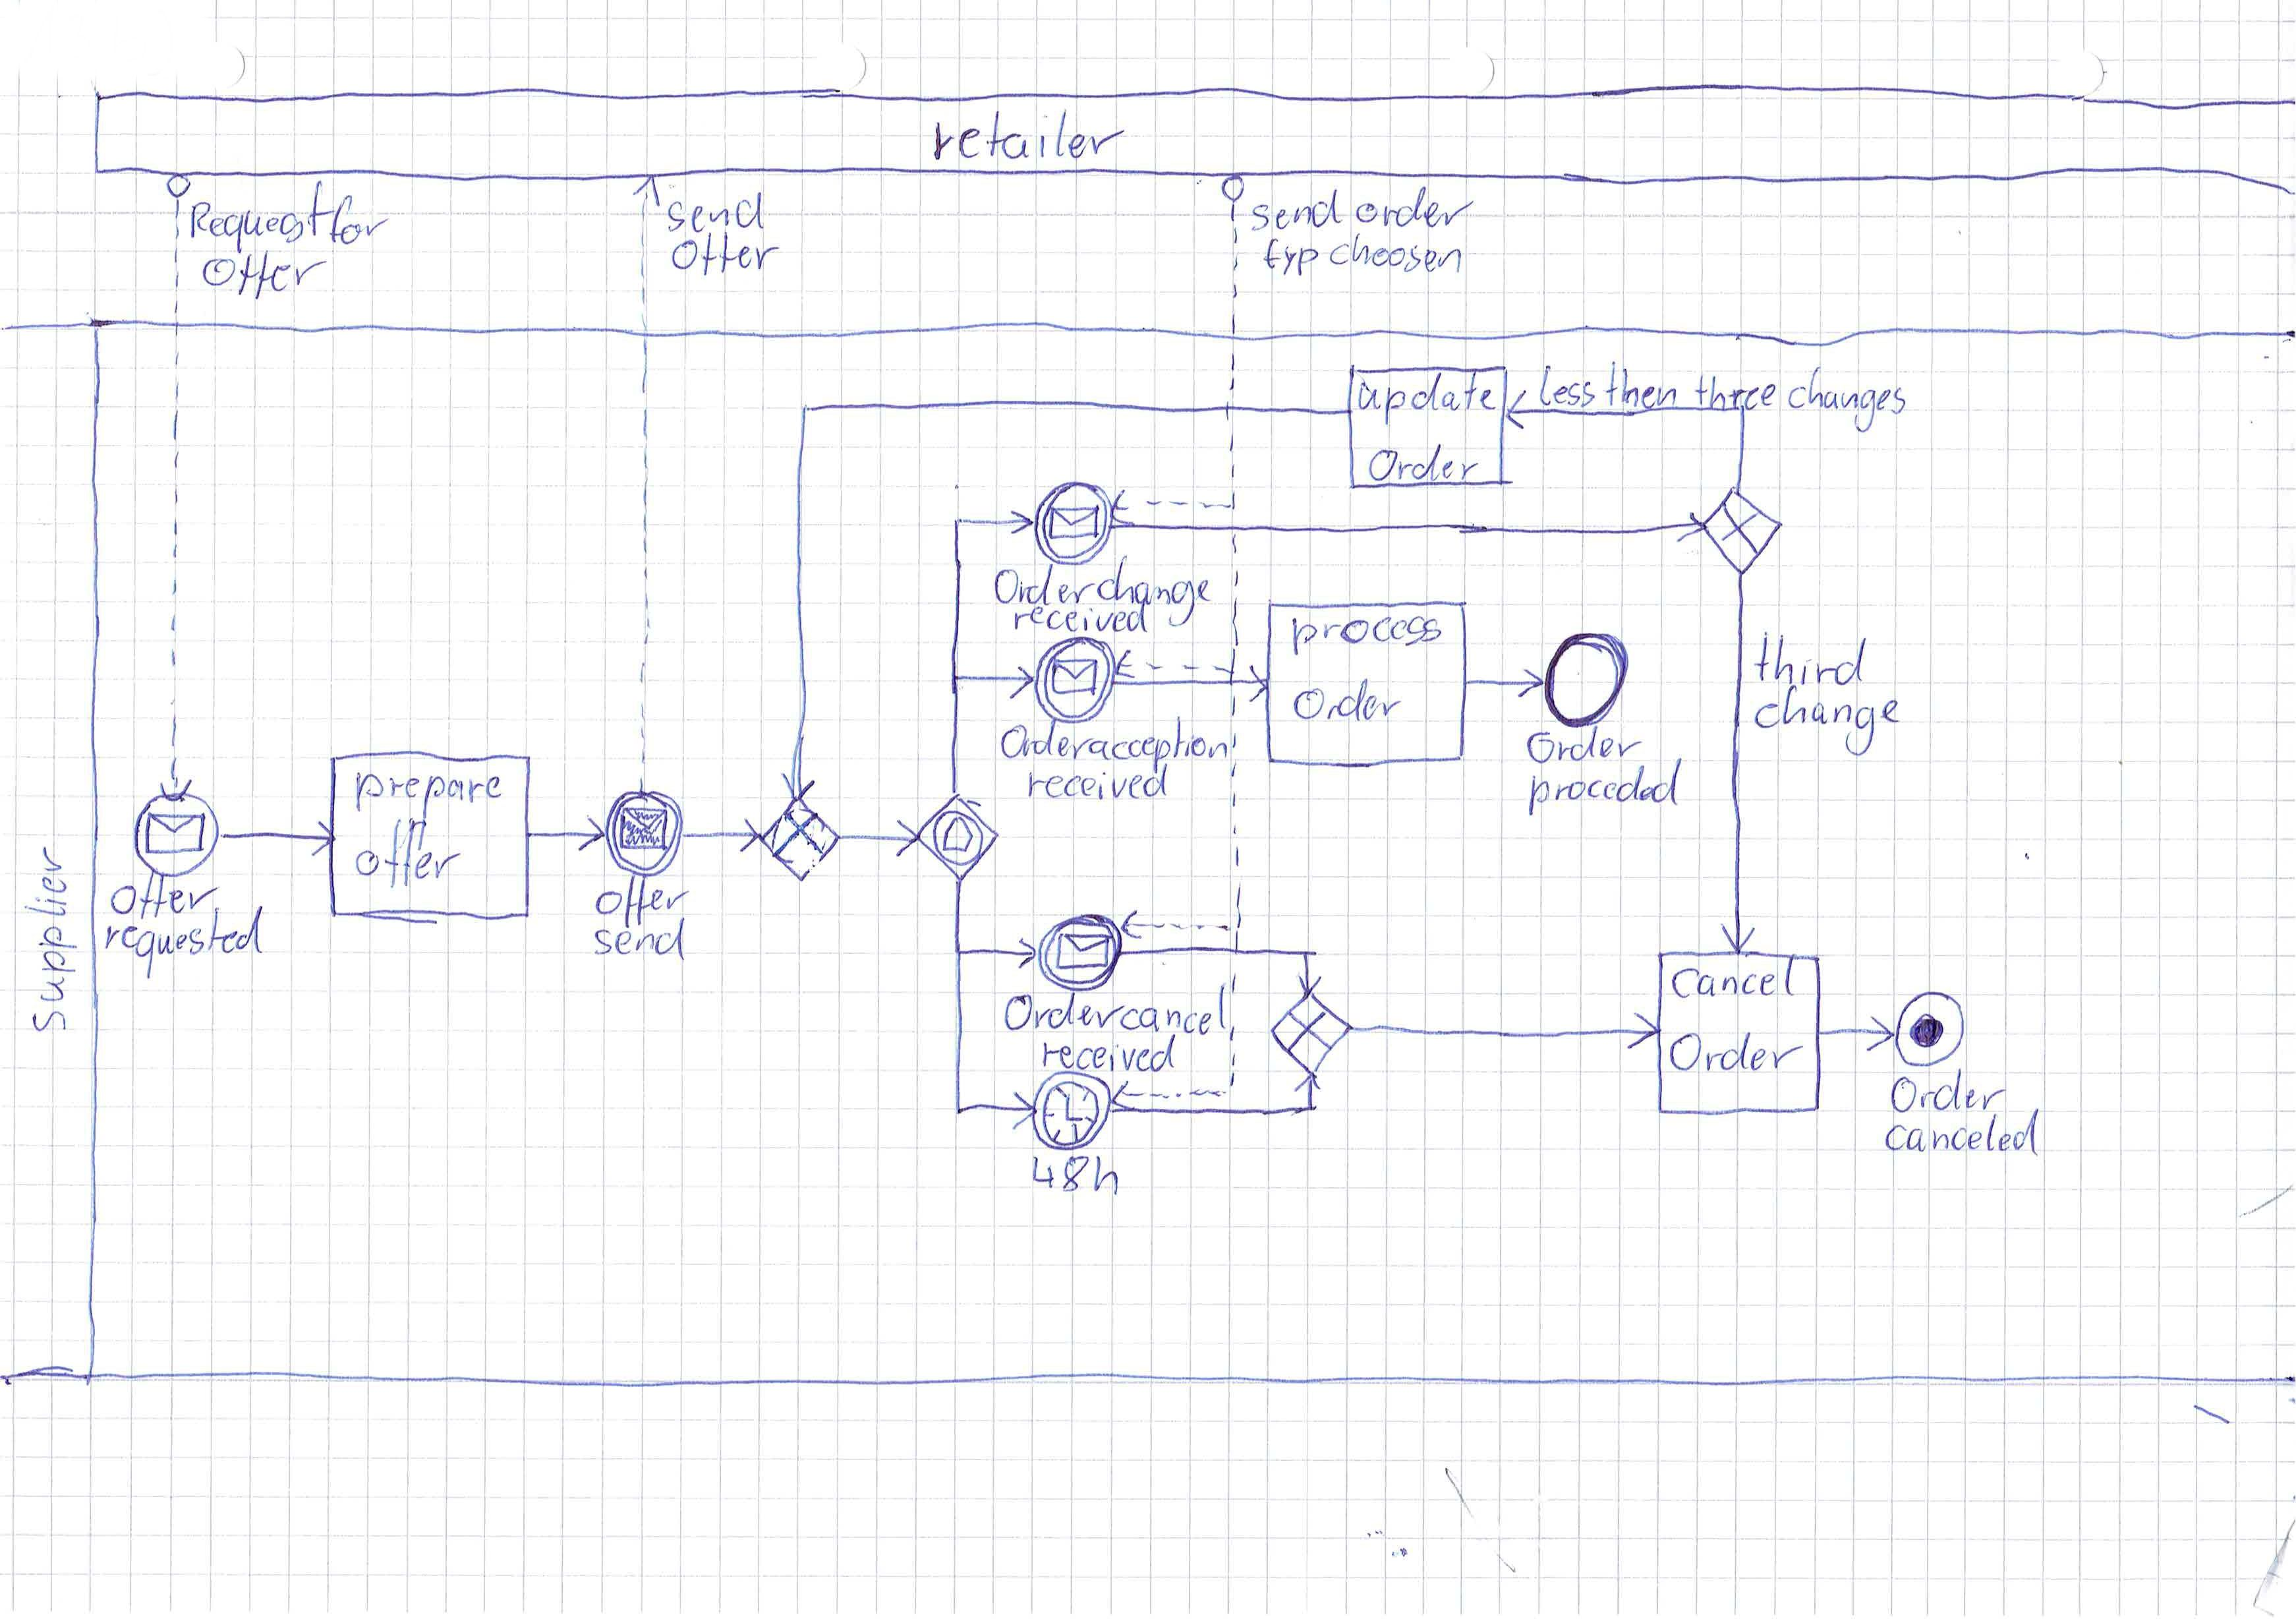48h: (1028, 1151, 1130, 1200)
Cancel: (1664, 958, 1804, 1002)
Offer: (673, 233, 776, 280)
Order: (1673, 1022, 1795, 1069), (1524, 722, 1643, 767), (1002, 990, 1121, 1034), (1891, 1074, 2005, 1118), (1371, 440, 1475, 482), (1301, 682, 1398, 725), (998, 564, 1089, 610)
Orderacception: (1000, 715, 1226, 769)
Request: (187, 191, 322, 245)
cancel: (1124, 993, 1226, 1036)
canceled: (1881, 1118, 2039, 1158)
change: (1753, 690, 1902, 738), (1093, 564, 1215, 612)
changes: (1781, 370, 1911, 424)
choosen: (1328, 237, 1461, 277)
for: (331, 193, 384, 256)
less: (1532, 361, 1594, 407)
offer: (349, 822, 461, 887), (201, 247, 320, 296), (112, 871, 214, 922), (597, 873, 690, 925)
order: (1352, 184, 1476, 235)
prepare: (357, 767, 499, 809)
proceeded: (1527, 767, 1687, 817)
process: (1292, 612, 1441, 657)
received: (1023, 767, 1170, 802), (1009, 601, 1151, 636), (1033, 1044, 1177, 1076)
requested: (96, 909, 266, 962)
retailer: (926, 109, 1133, 172)
send: (660, 187, 765, 237), (1247, 187, 1345, 237), (592, 922, 687, 962)
supplier: (25, 846, 81, 1036)
then: (1595, 368, 1676, 419)
third: (1750, 634, 1876, 690)
three: (1695, 368, 1774, 412)
typ: (1257, 237, 1321, 280)
update: (1356, 370, 1494, 424)
